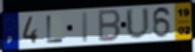4: (22, 15, 40, 46)
6: (152, 5, 174, 40)
B: (98, 9, 123, 43)
I: (81, 10, 90, 44)
L: (46, 14, 66, 44)
U: (124, 6, 152, 41)
